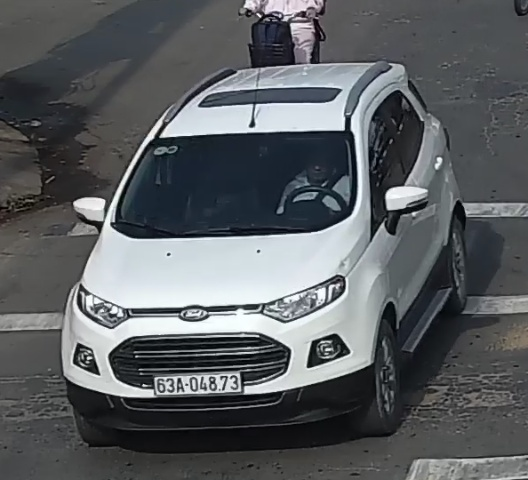vehicle plate: (144, 370, 254, 398)
